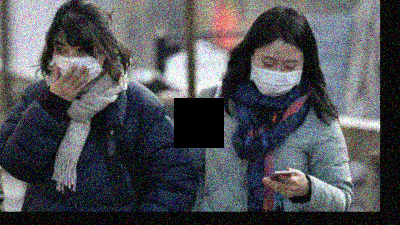with_mask: (250, 55, 303, 98), (51, 40, 100, 85)
